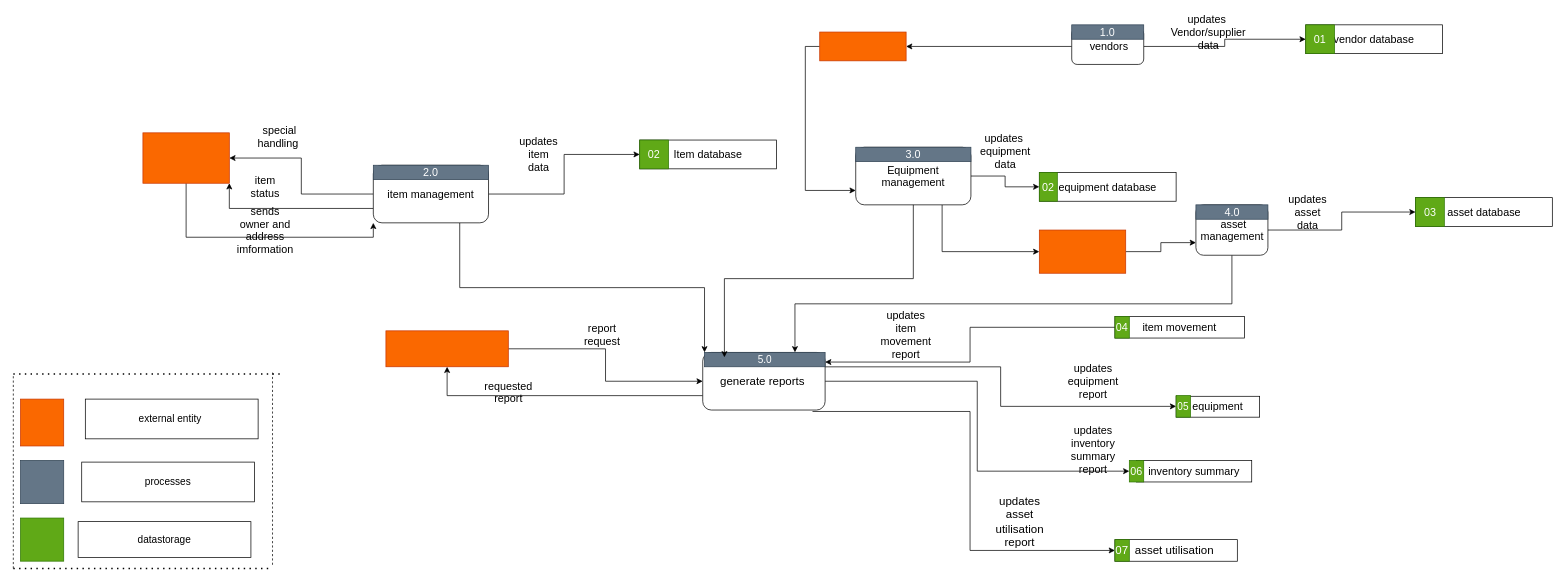
This 1565x582 diagram has some shape labels left out. The shapes that lost their labels are listed below. From the top down, each one's centre as x and y in pixels, then its label:
(862,46): vendor/suppiler
(185,157): customers
(1082,251): packing and moving equipment
(446,348): management
